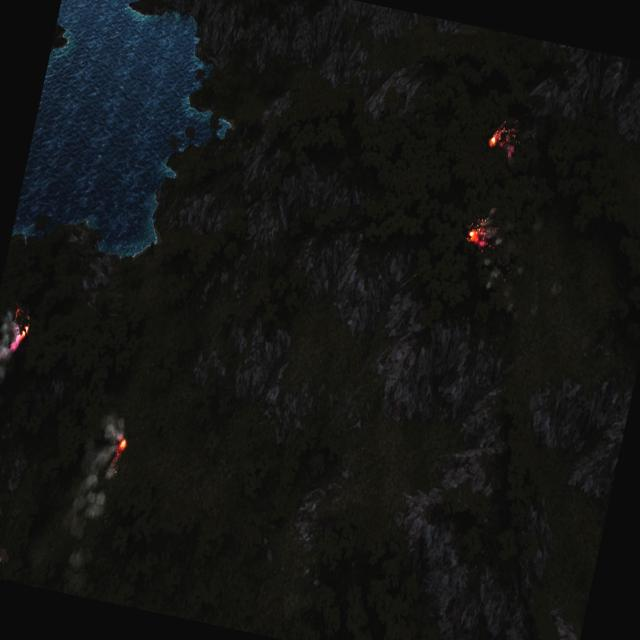fire: (484, 122, 518, 162), (7, 310, 33, 352), (465, 217, 491, 251)
smoke: (48, 402, 132, 590), (0, 306, 23, 443)
